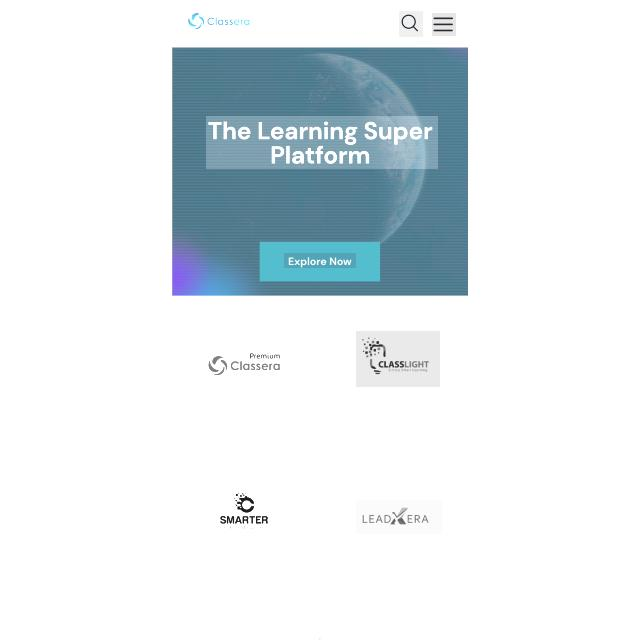CheckBox: (260, 241, 380, 281)
accordion: (315, 296, 325, 638), (171, 443, 469, 452), (170, 595, 470, 602)
bag: (170, 0, 468, 46)
card: (173, 46, 469, 296)
carousel: (399, 11, 423, 37), (432, 13, 456, 36)
data feed: (284, 253, 356, 268)
date picker: (356, 331, 440, 387), (203, 339, 295, 381), (208, 488, 276, 540), (357, 500, 442, 534), (186, 8, 261, 38)
decoration: (429, 10, 460, 38)
image: (206, 116, 438, 169)
